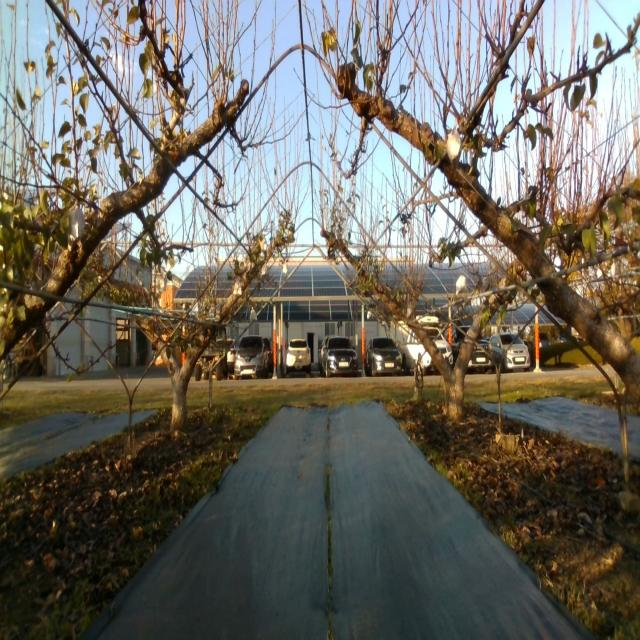pearbags: (68, 206, 86, 240), (447, 126, 462, 166), (155, 270, 167, 296), (454, 275, 468, 294)
